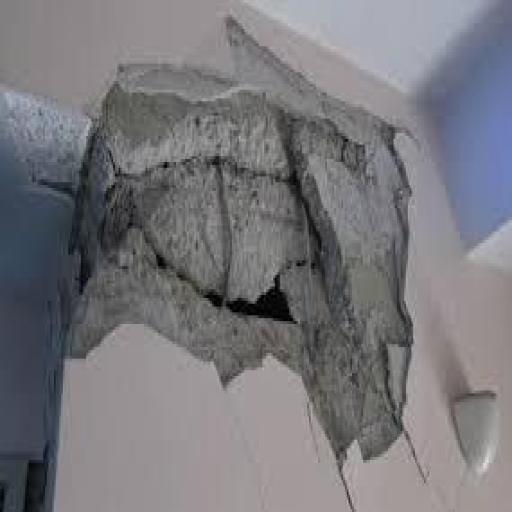spalling: (62, 85, 413, 461)
